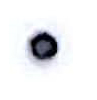cancer: (13, 13, 75, 73)
